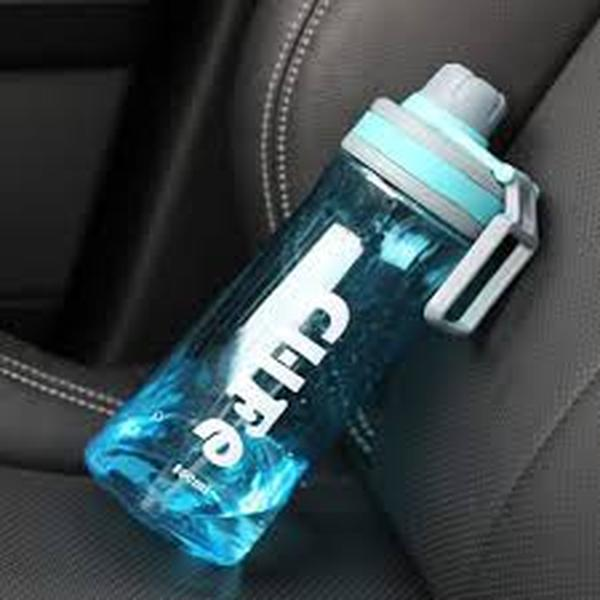tutuma: (56, 46, 567, 569)
